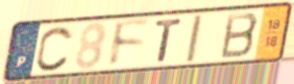8: (73, 20, 109, 72)
B: (218, 11, 261, 61)
C: (34, 25, 76, 74)
F: (108, 19, 152, 70)
I: (184, 13, 205, 65)
T: (154, 17, 185, 64)
